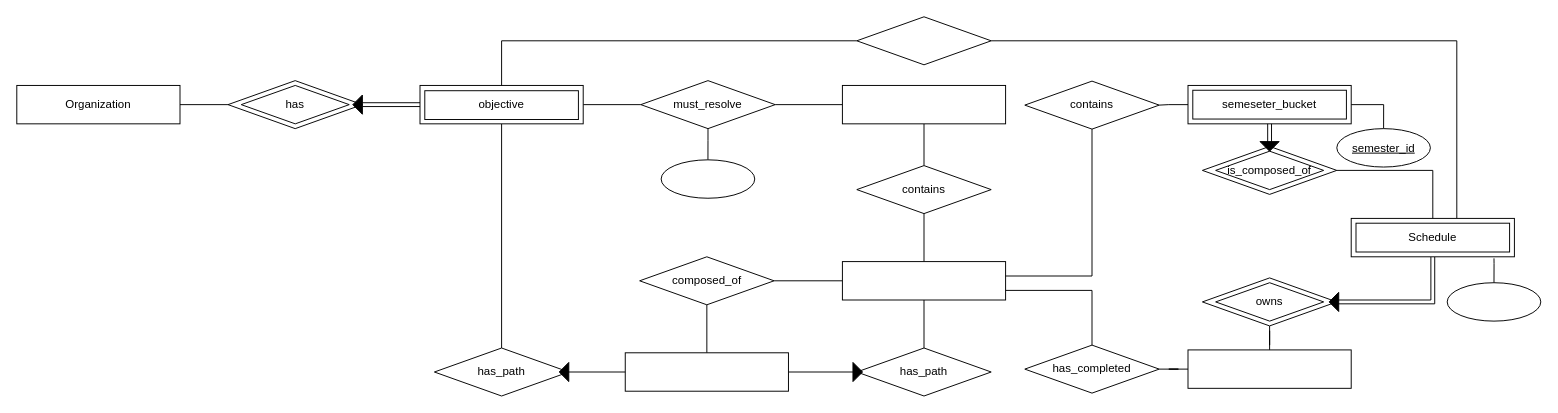
Image size: 1558x413. Some labels were removed from this diagram. The centre of each missing label's shape, as x and y in pixels:
"built_to_complete" belongs at pixel 923 40.
"is_valid" belongs at pixel 1493 301.
"min_required" belongs at pixel 707 178.
"path" belongs at pixel 706 371.
"requirement_group" belongs at pixel 923 104.
"Task" belongs at pixel 923 280.
"user" belongs at pixel 1269 368.
